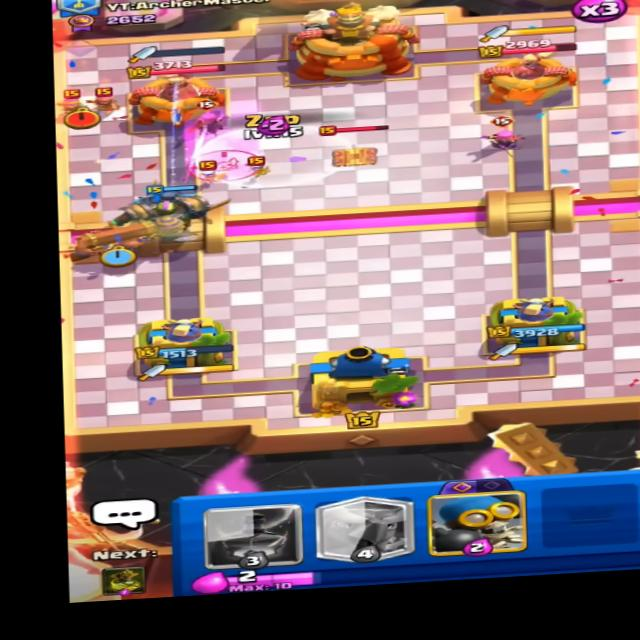archer: (51, 83, 86, 124), (91, 83, 128, 117)
evo-archers: (481, 121, 527, 158), (189, 98, 230, 135)
skeleton: (235, 156, 272, 182), (195, 164, 232, 185)
tesla-closed: (315, 121, 392, 176)
